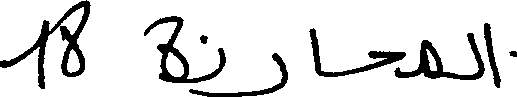1: (0, 17, 47, 88)
8: (59, 0, 89, 78)
ا: (483, 20, 515, 88), (307, 26, 322, 76)
ة: (141, 14, 188, 84)
ح: (366, 49, 405, 78)
ر: (237, 50, 288, 95)
ز: (188, 32, 224, 83)
ل: (466, 20, 484, 80)
م: (421, 37, 443, 79)
